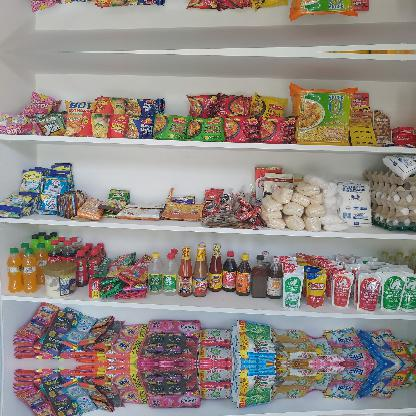Lady-s-Choice: (41, 260, 79, 298)
